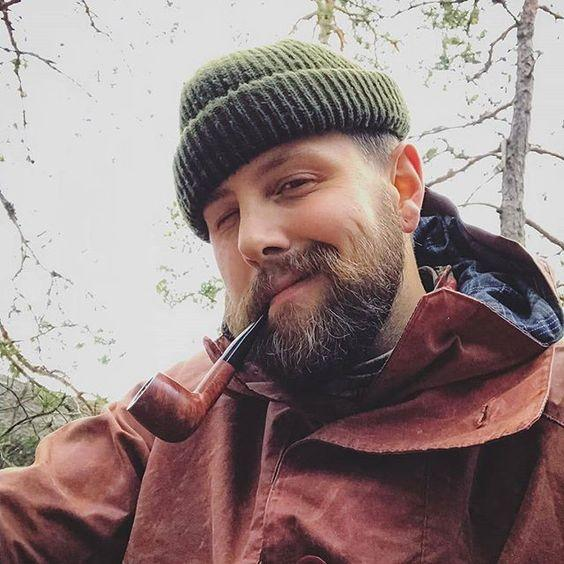trubka: (127, 310, 265, 443)
